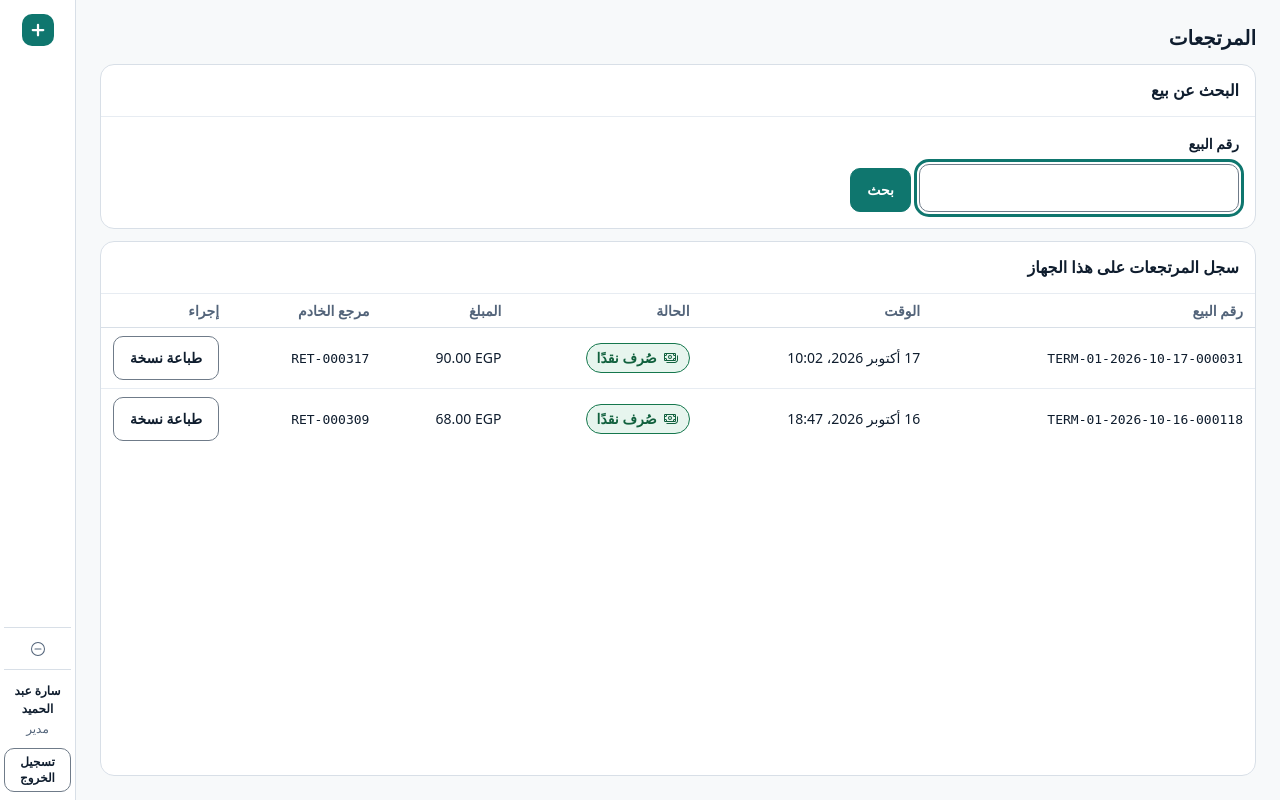
Test case: ReturnsProof › PayoutDrawerFailed: a confirmed return whose drawer did not open offers retry or manual
Type "TERM-01-2026-10-15-000042" into the field labelled "رقم البيع" at x=1079, y=188, box [919,164,1239,212]
Then press Enter
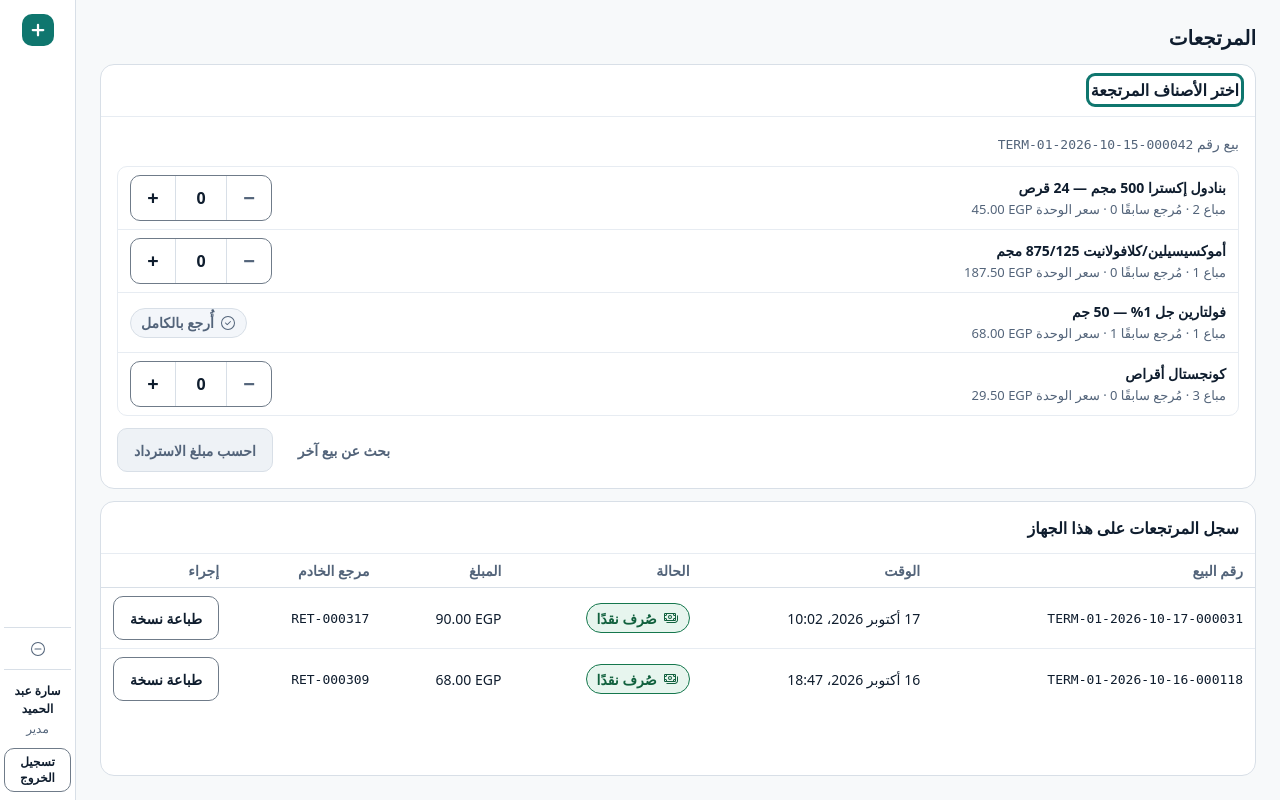
Click the button named "زيادة بنادول" at x=153, y=198, box [131,176,175,220]
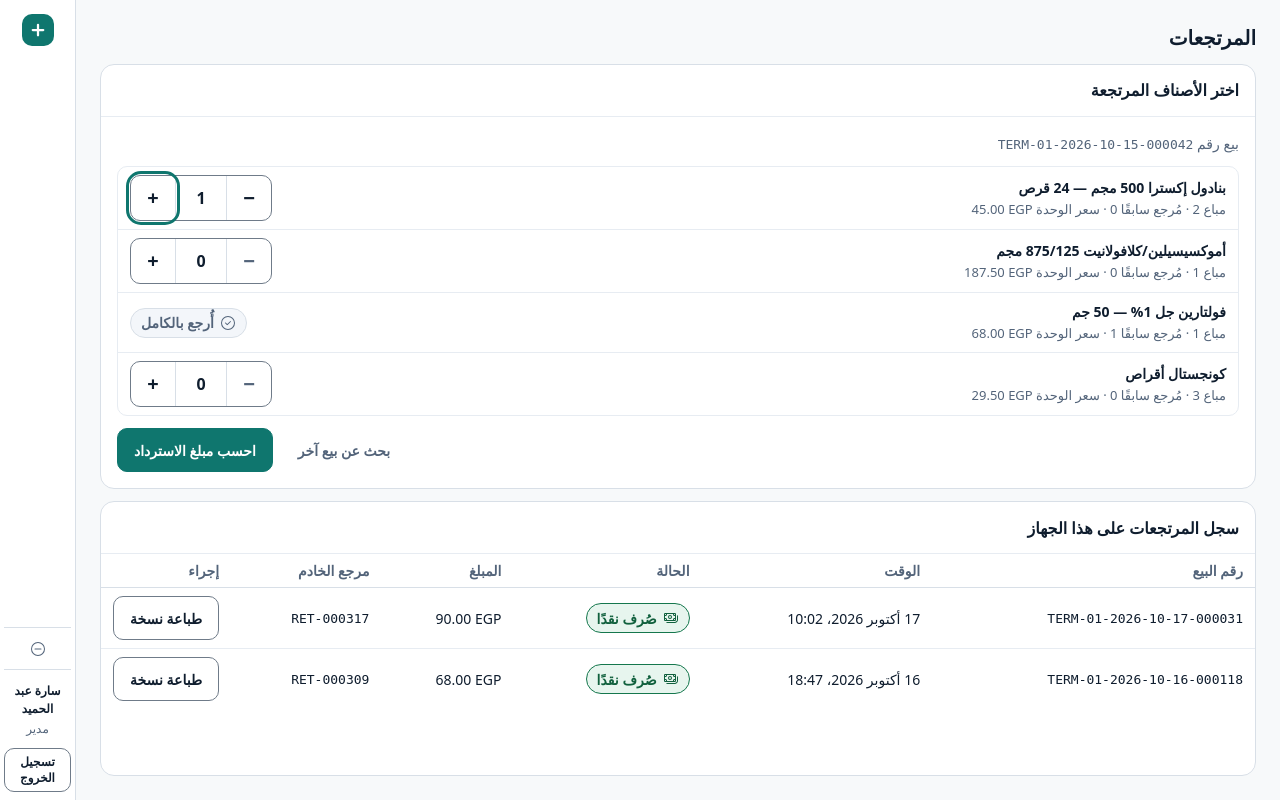
Click the button "احسب مبلغ الاسترداد" at x=195, y=450, box [117,428,273,472]
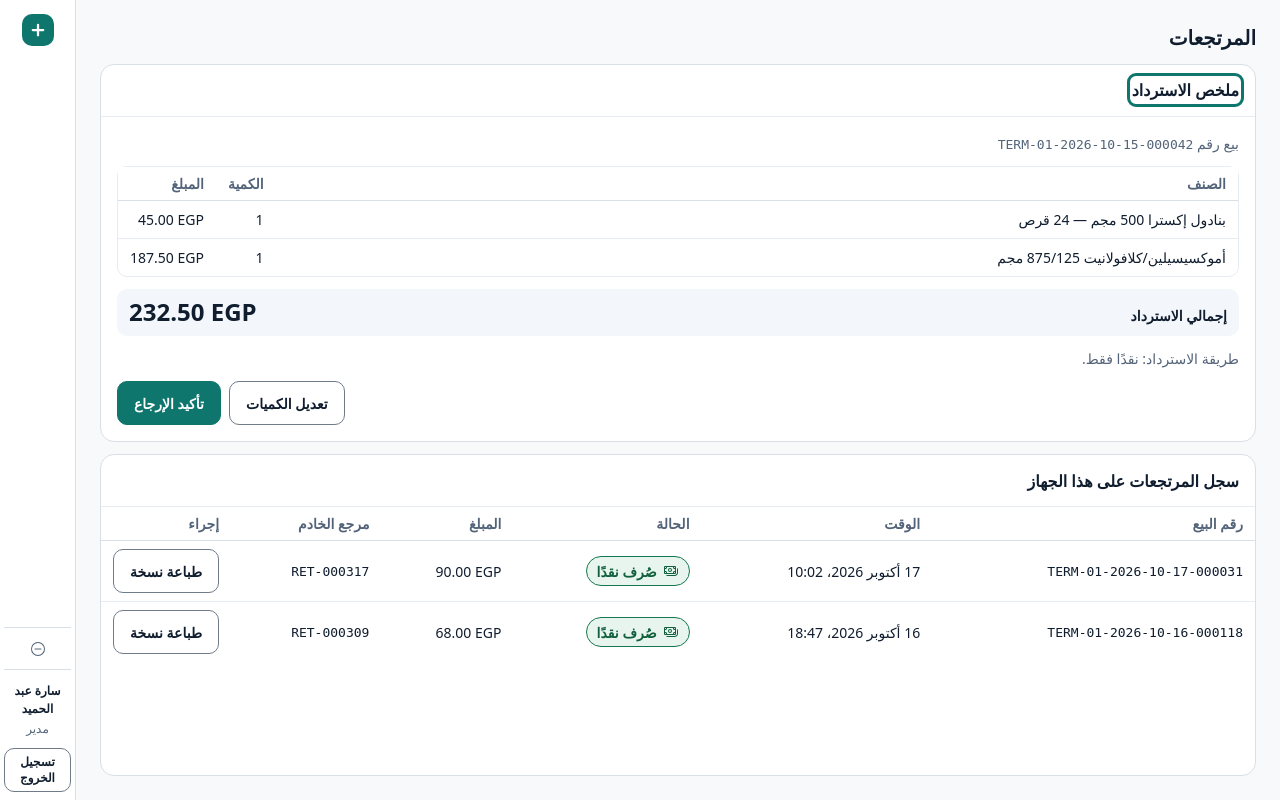
Click the button "تأكيد الإرجاع" at x=169, y=403, box [117,381,221,425]
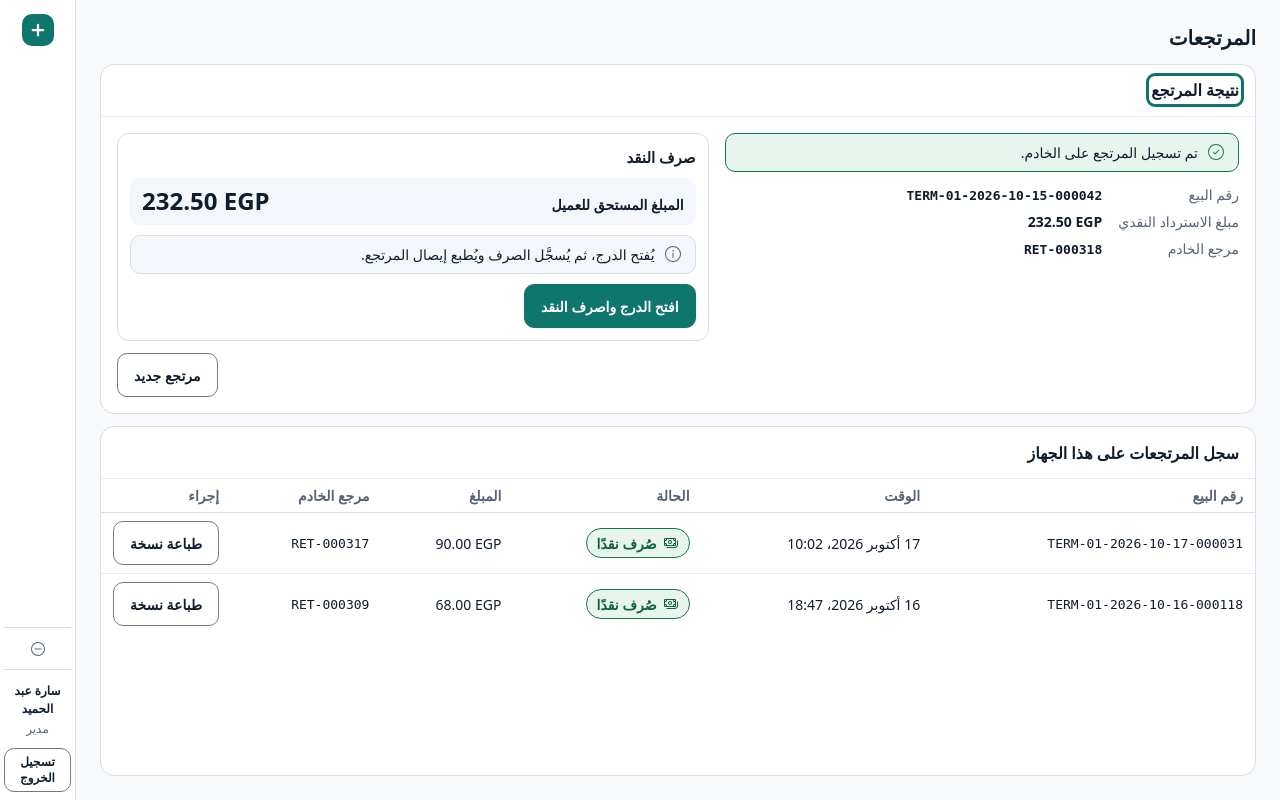
Click the button "افتح الدرج واصرف النقد" at x=610, y=306, box [524,284,696,328]
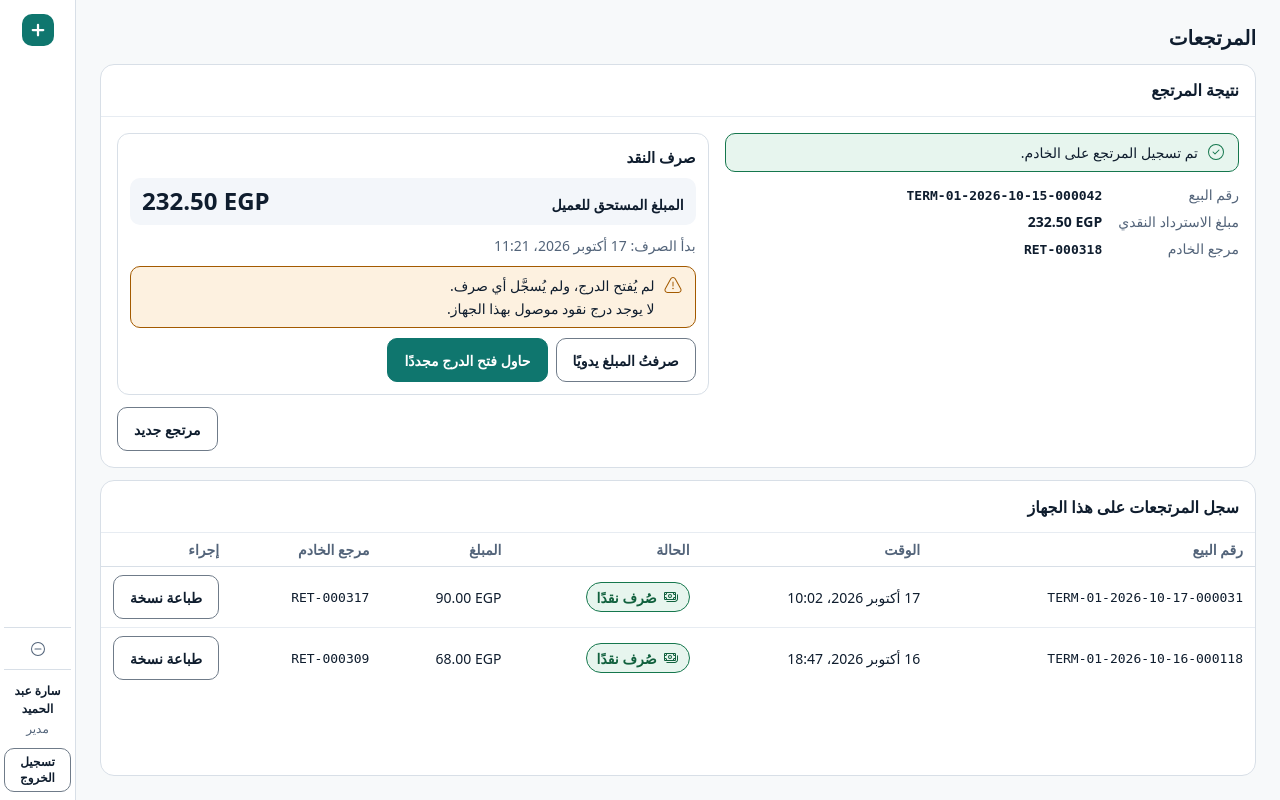
Expected: the text "لم يُفتح الدرج، ولم يُسجَّل أي صرف." is shown, [450,276,655,295]
Expected: the button "حاول فتح الدرج مجددًا" is shown, [388,338,548,382]
Expected: the button "صرفتُ المبلغ يدويًا" is shown, [556,338,696,382]
